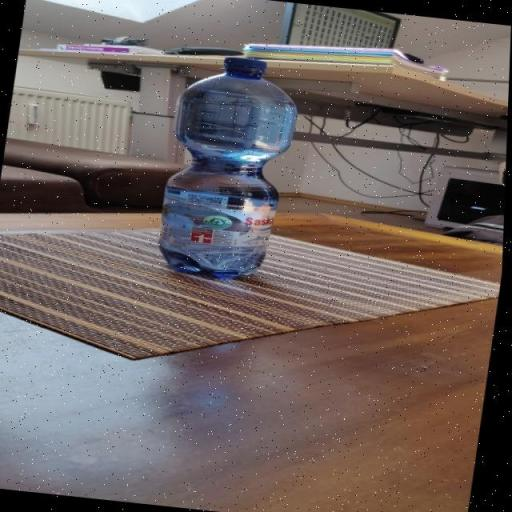plastic: (152, 50, 302, 286)
